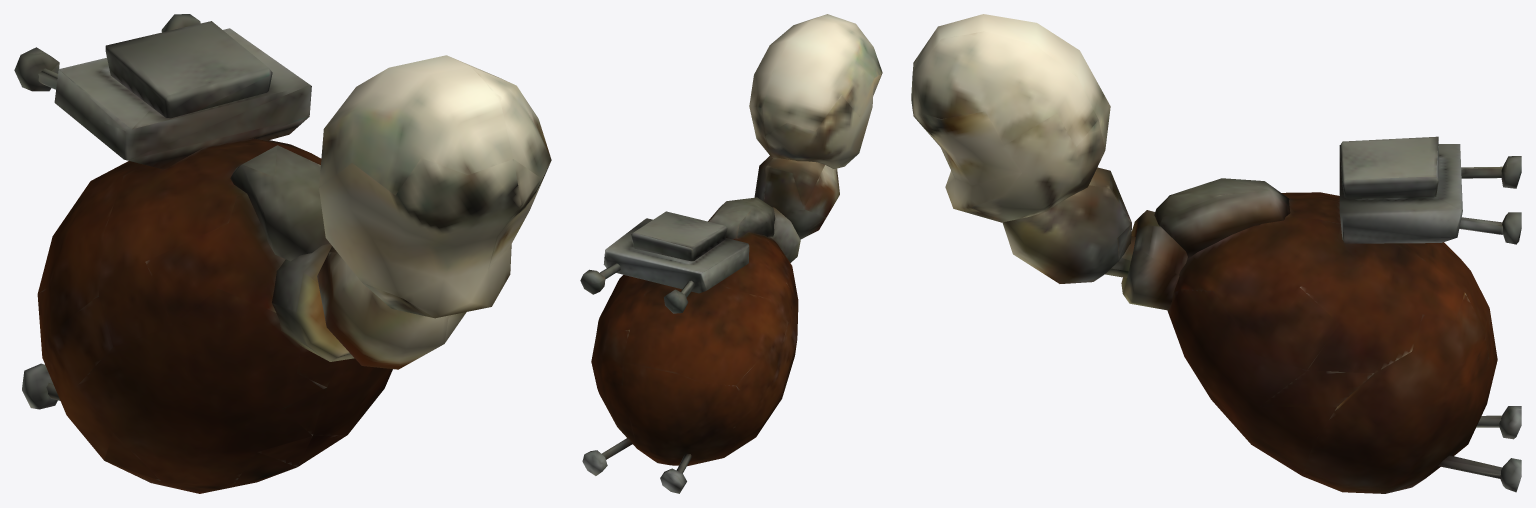
File: tail-stinger.glb
3 renders of one model, left to right at view 1: azimuth 30°, elevation 25°; view 2: azimuth 150°, elevation 25°; view 3: azimuth 270°, elevation 25°, orthographic. The views are drawn at different scales.
Parts seen in each view (by area): view 1: tail-stinger; view 2: tail-stinger; view 3: tail-stinger.
Part boxes in pixels (<box>): tail-stinger: <box>14,14,551,493</box>; tail-stinger: <box>580,14,882,493</box>; tail-stinger: <box>911,14,1521,493</box>.
Bounding box in the file's own units: 0.4131 × 0.7451 × 0.8906.
1 material, 1 textured.
